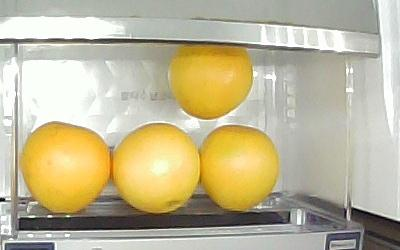grapefruit: (22, 123, 111, 214), (112, 122, 201, 212), (198, 125, 278, 211), (167, 47, 253, 119)
